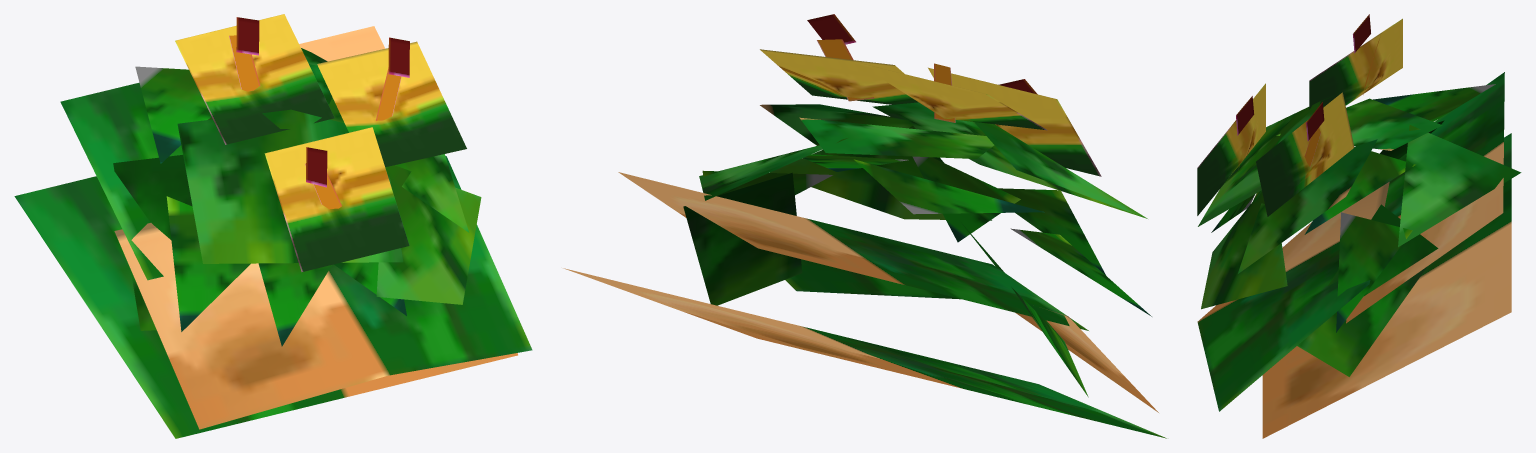
The model's file is fg_bushD_2_ye.dae.
3 views of the same model, side by side, from view 1: azimuth 30°, elevation 25°; view 2: azimuth 150°, elevation 25°; view 3: azimuth 270°, elevation 25° (orthographic). The views are drawn at different scales.
Parts seen in each view (by area): view 1: fg_bushD_2_ye; view 2: fg_bushD_2_ye; view 3: fg_bushD_2_ye.
Part boxes in pixels (bbox=[...]): fg_bushD_2_ye: bbox=[14, 14, 532, 438]; fg_bushD_2_ye: bbox=[563, 14, 1166, 438]; fg_bushD_2_ye: bbox=[1197, 14, 1521, 438].
Size of the model in its own units: 47.83 by 40.3 by 36.53.
1 material, 1 textured.
